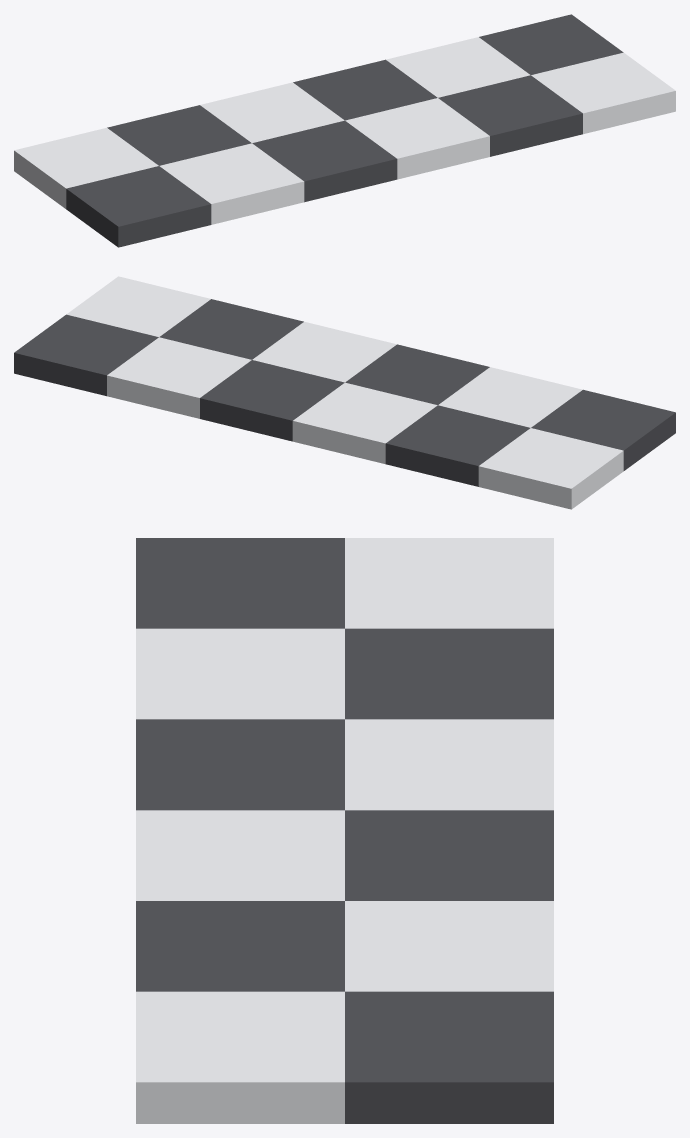
The model's file is MainPieceV2_Checkpoint.fbx.
The picture shows the model from 3 angles, top to bottom: view 1: azimuth 30°, elevation 25°; view 2: azimuth 150°, elevation 25°; view 3: azimuth 270°, elevation 25°; orthographic projection. The views are drawn at different scales.
Visible parts, largest first — view 1: RunnerPlatform_V1_CheckPoint; view 2: RunnerPlatform_V1_CheckPoint; view 3: RunnerPlatform_V1_CheckPoint.
Boxes of the visible parts, bbox=[...] form: RunnerPlatform_V1_CheckPoint: bbox=[14, 14, 675, 247]; RunnerPlatform_V1_CheckPoint: bbox=[14, 276, 675, 509]; RunnerPlatform_V1_CheckPoint: bbox=[136, 538, 553, 1123].
Size of the model in its own units: 393 by 14.02 by 127.
1 material, 1 textured.
